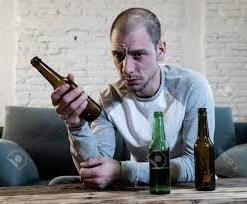Drunk: (113, 31, 153, 89)
